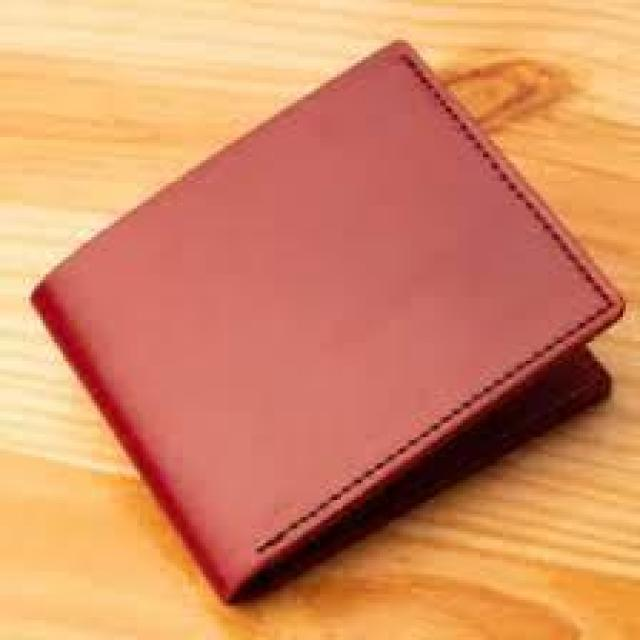cuzdan: (23, 24, 640, 602)
